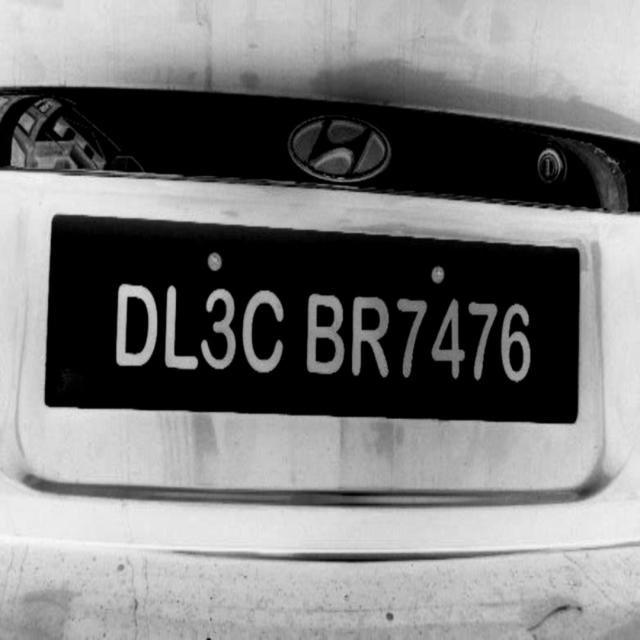Non_registered: (49, 213, 575, 424)
